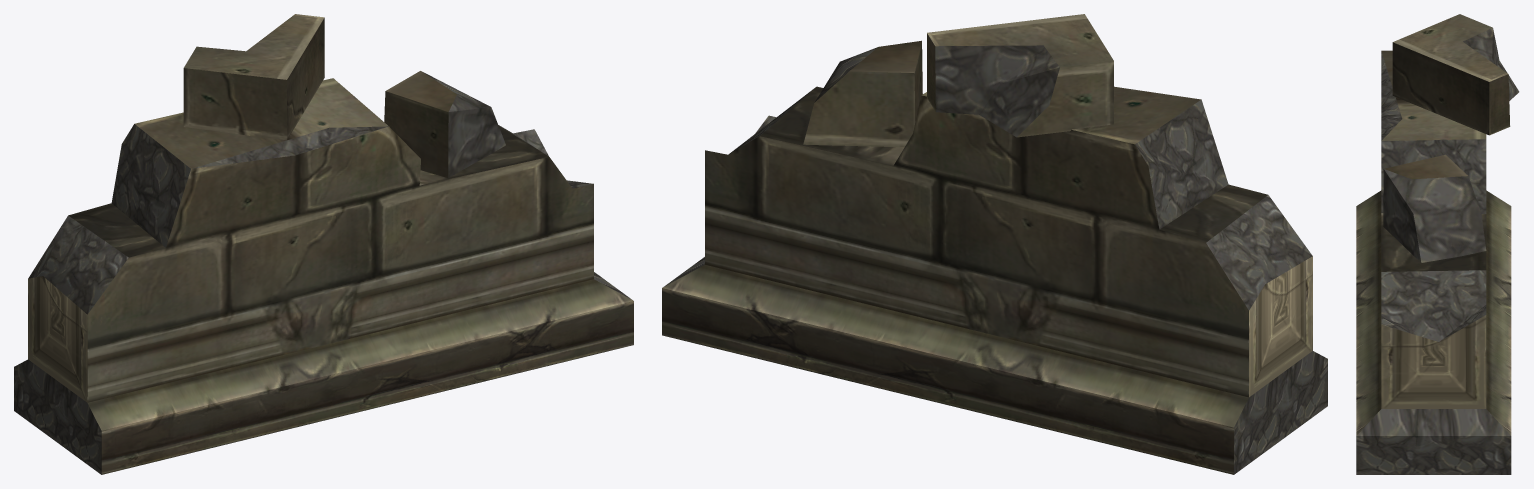
File: F_neiqiang009.fbx
3 renders of one model, left to right at view 1: azimuth 30°, elevation 25°; view 2: azimuth 150°, elevation 25°; view 3: azimuth 270°, elevation 25°, orthographic. The views are drawn at different scales.
Visible parts, largest first — view 1: F_neiqiang009; view 2: F_neiqiang009; view 3: F_neiqiang009.
Part boxes in pixels (x1=…): F_neiqiang009: x1=14, y1=14, x2=633, y2=474; F_neiqiang009: x1=662, y1=14, x2=1327, y2=474; F_neiqiang009: x1=1356, y1=14, x2=1519, y2=474.
Size of the model in its own units: 319 by 189 by 95.56.
